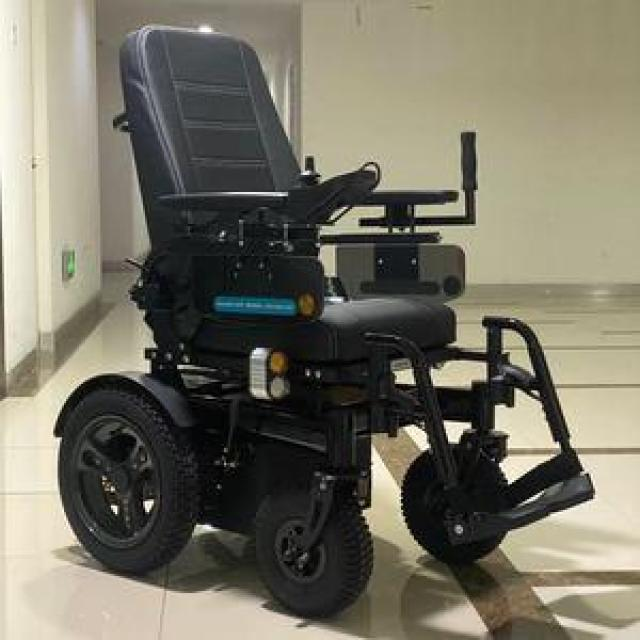wheelchairs: (31, 22, 603, 622)
